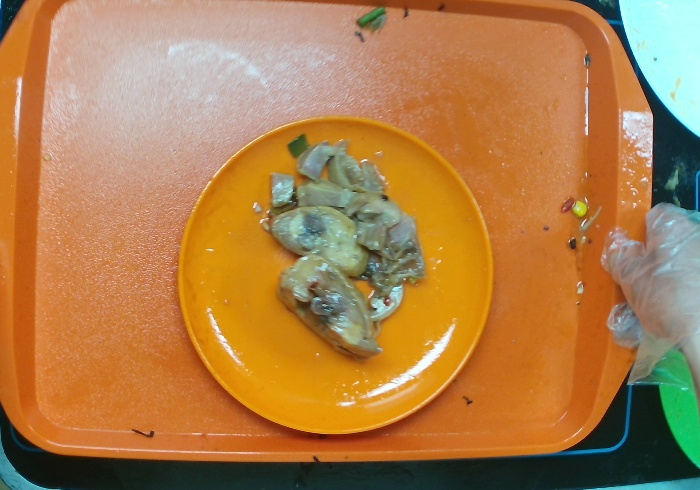HZYJPL-Ju_Huang_Yuan_Pan: (157, 100, 502, 447)
